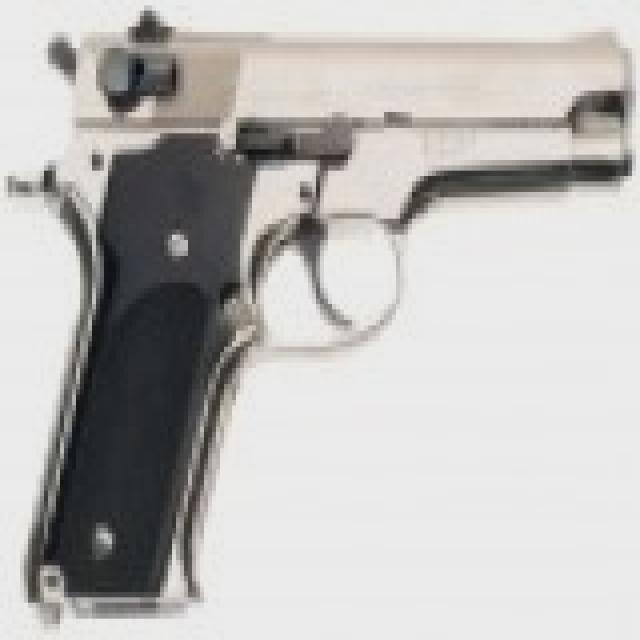pistol: (20, 11, 632, 613)
